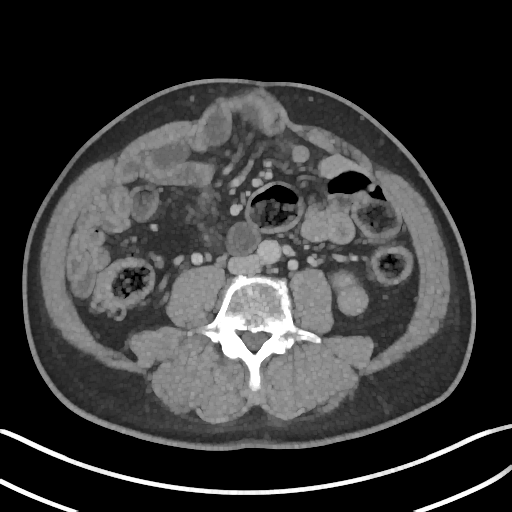Lesion: (336, 283, 370, 318)
